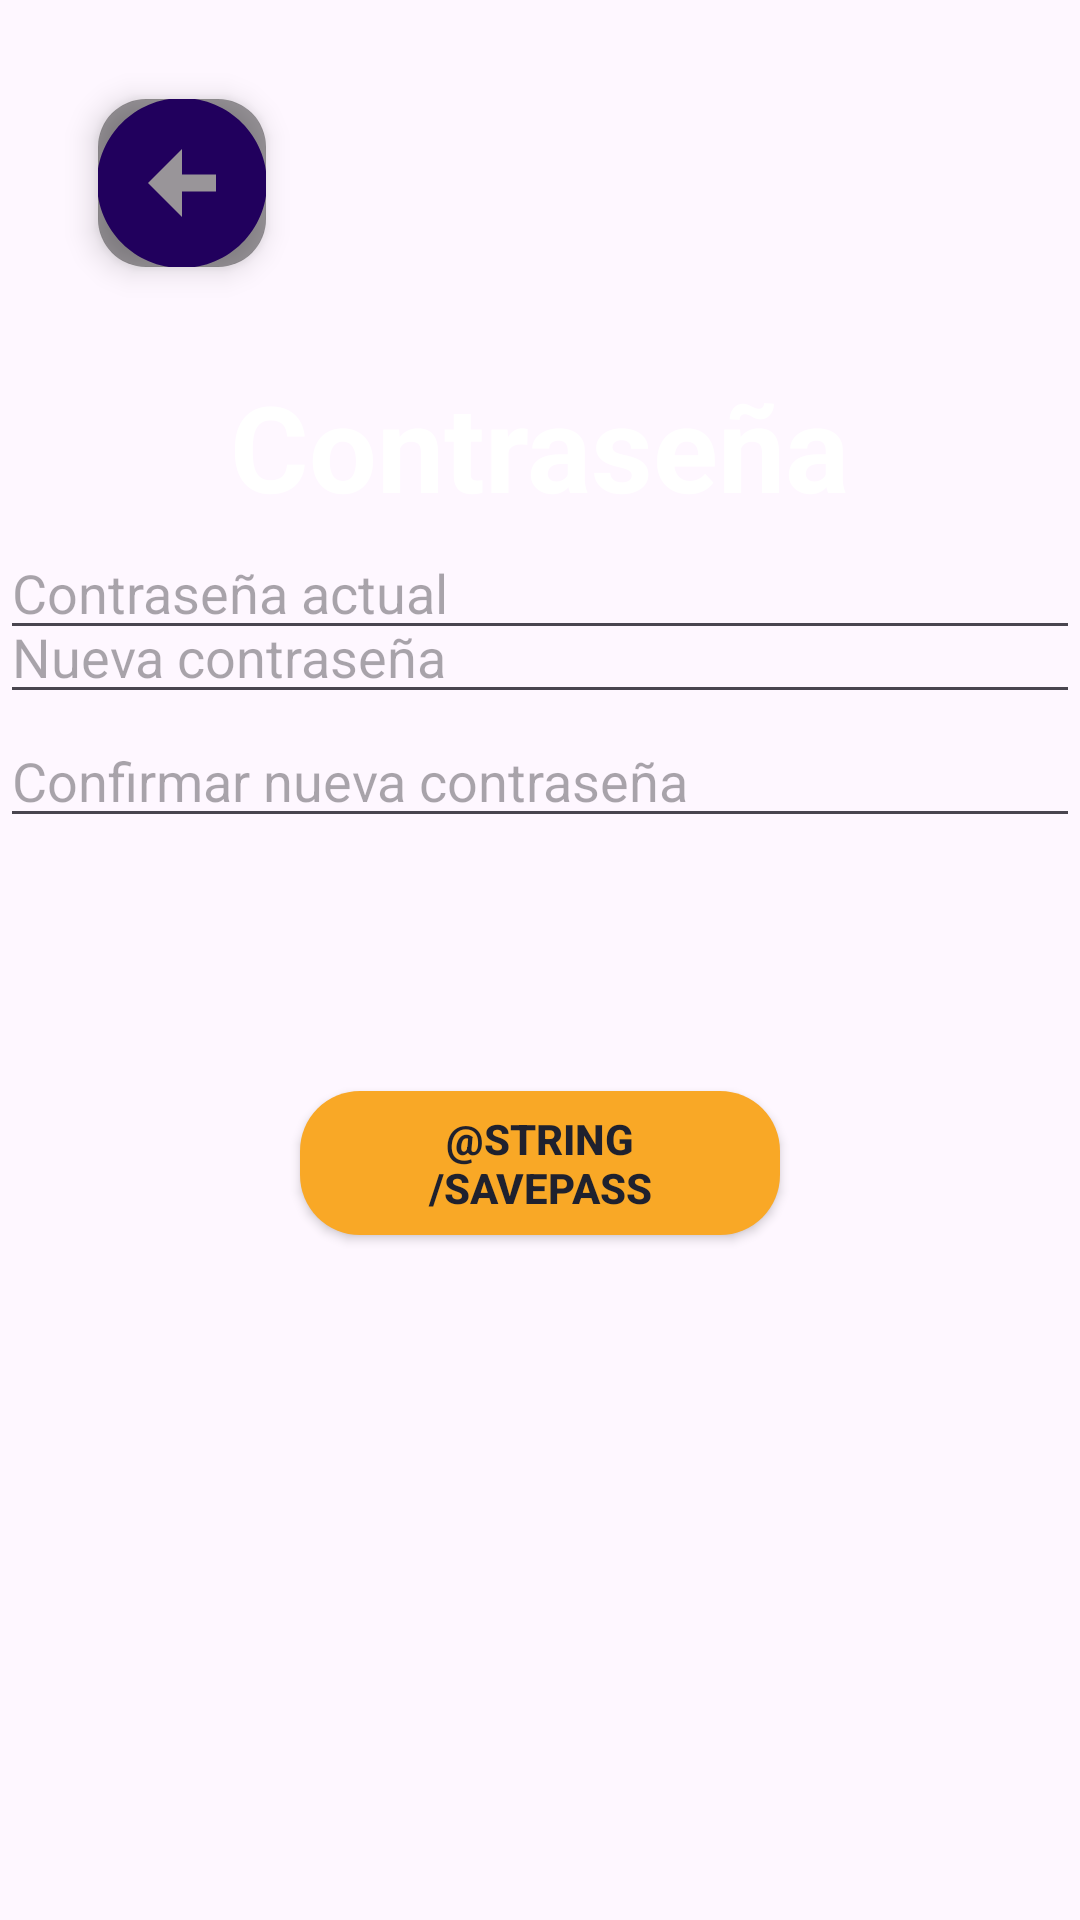

Icons on this 1080w x 1920h Android screen, each with its box as bbox=(x1, y1, x2, y2):
arrow return: bbox=(98, 99, 266, 267)
